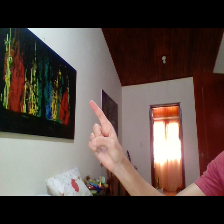2T: (84, 97, 129, 175)
